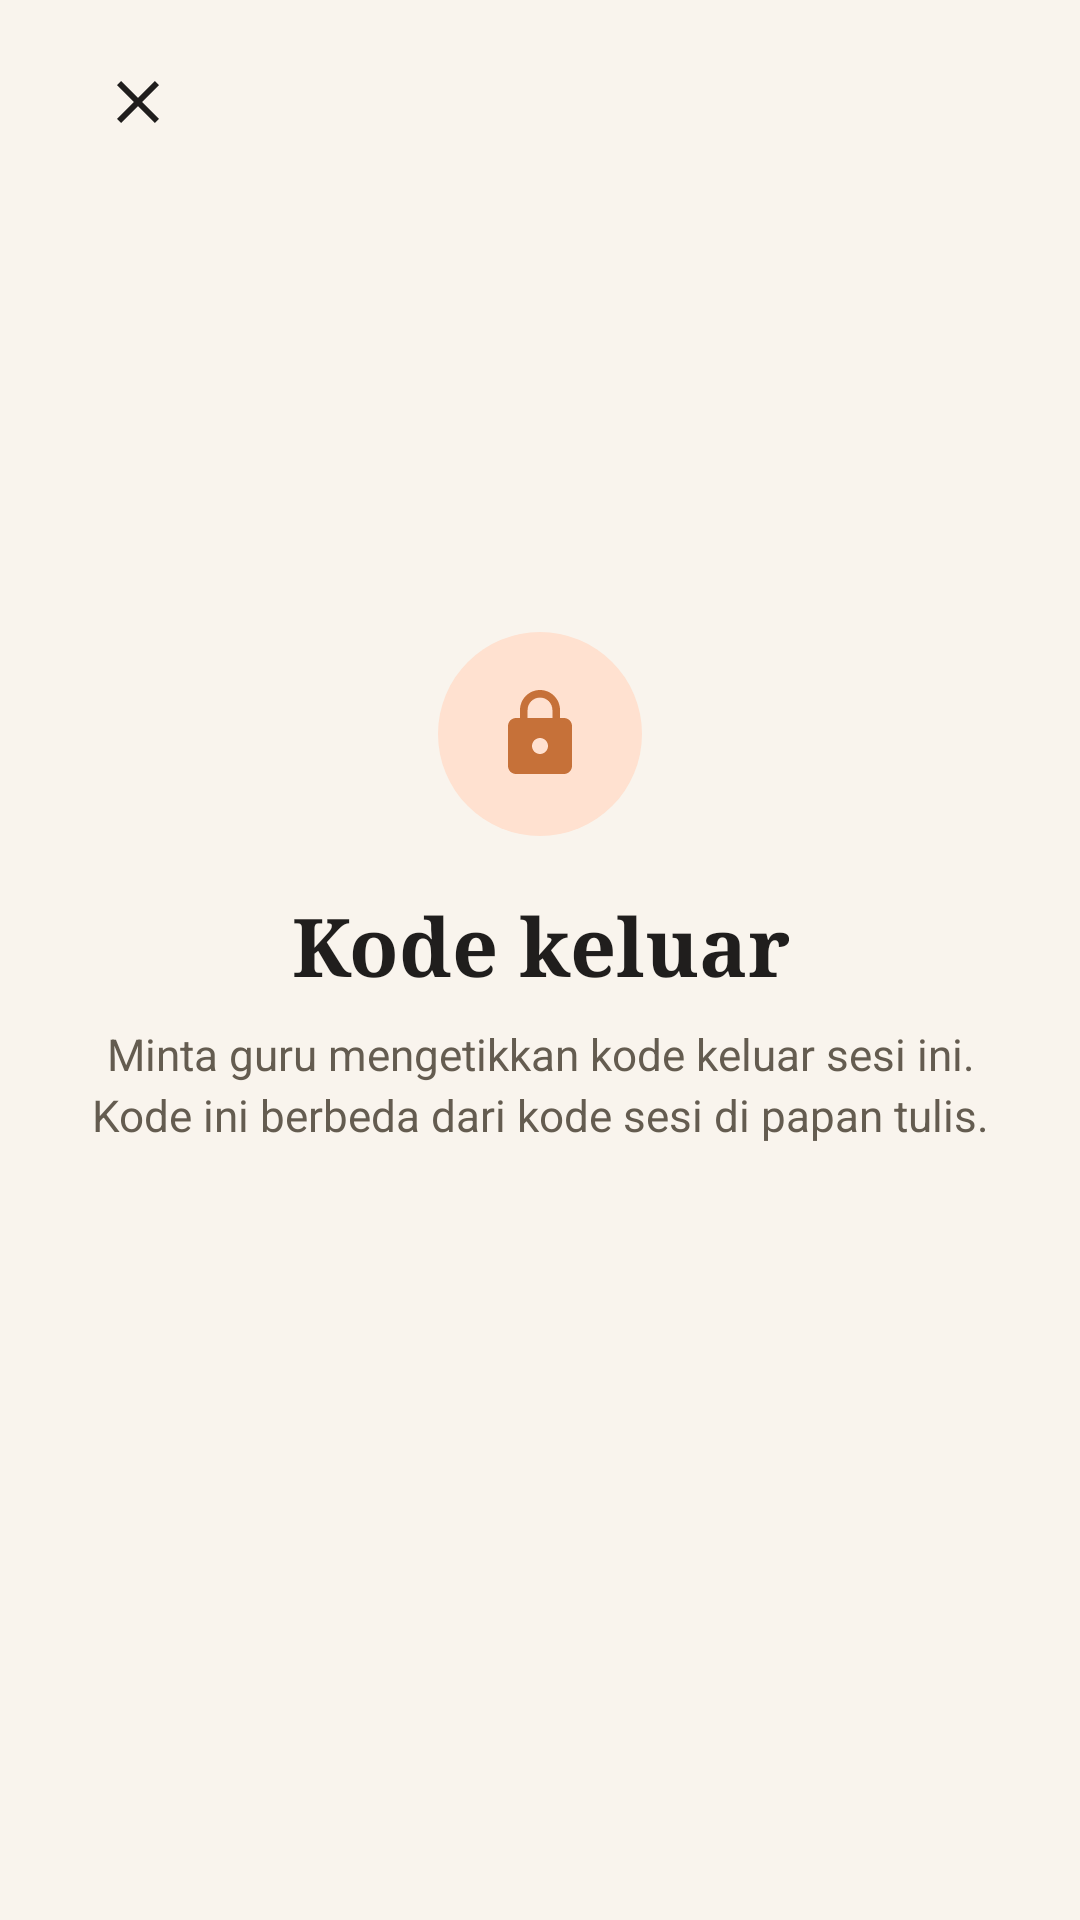

Locate icon controls on the screen. Image size 1080px×1920px, boxes as [x1,y1,x2,y2].
Batal: [117,81,159,123]
gembok: [508,690,572,774]
